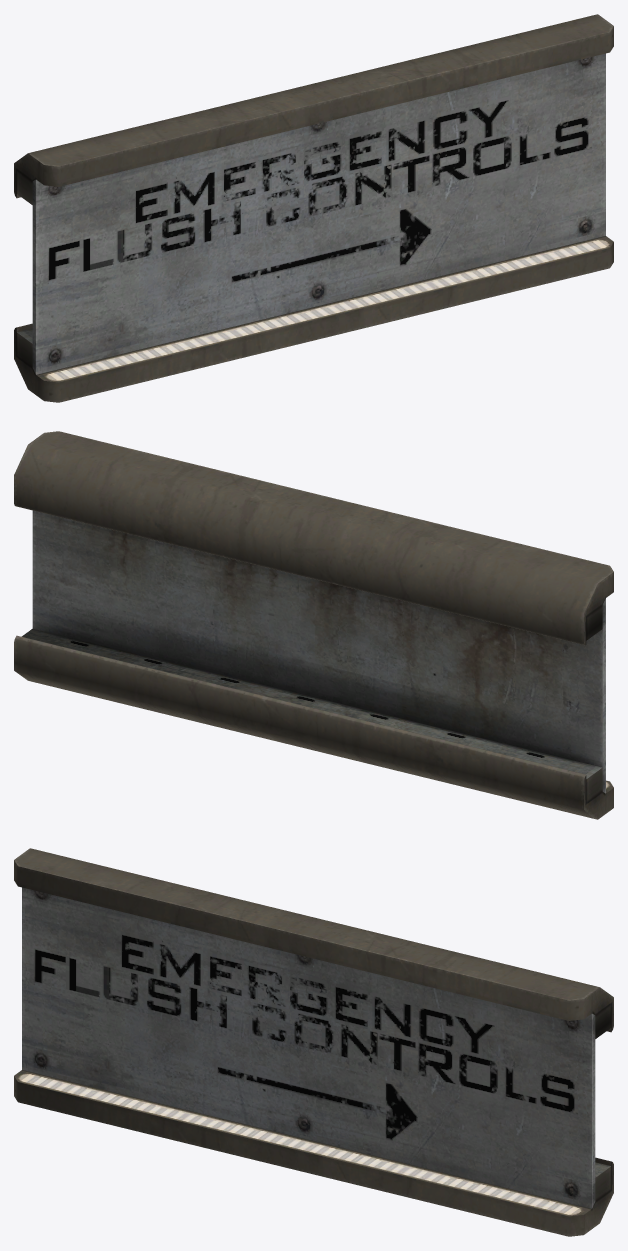
The model's file is sign_emergency_flush_controls_Rarrow.dae.
The picture shows the model from 3 angles, top to bottom: view 1: azimuth 30°, elevation 25°; view 2: azimuth 150°, elevation 25°; view 3: azimuth 330°, elevation 25°; orthographic projection.
Parts seen in each view (by area): view 1: pCube1; view 2: pCube1; view 3: pCube1.
Boxes of the visible parts, x1,y1,x2,y2 form: pCube1: (14, 14, 613, 402); pCube1: (14, 431, 613, 819); pCube1: (14, 848, 613, 1236).
Size of the model in its own units: 1 by 0.3959 by 0.1078.
